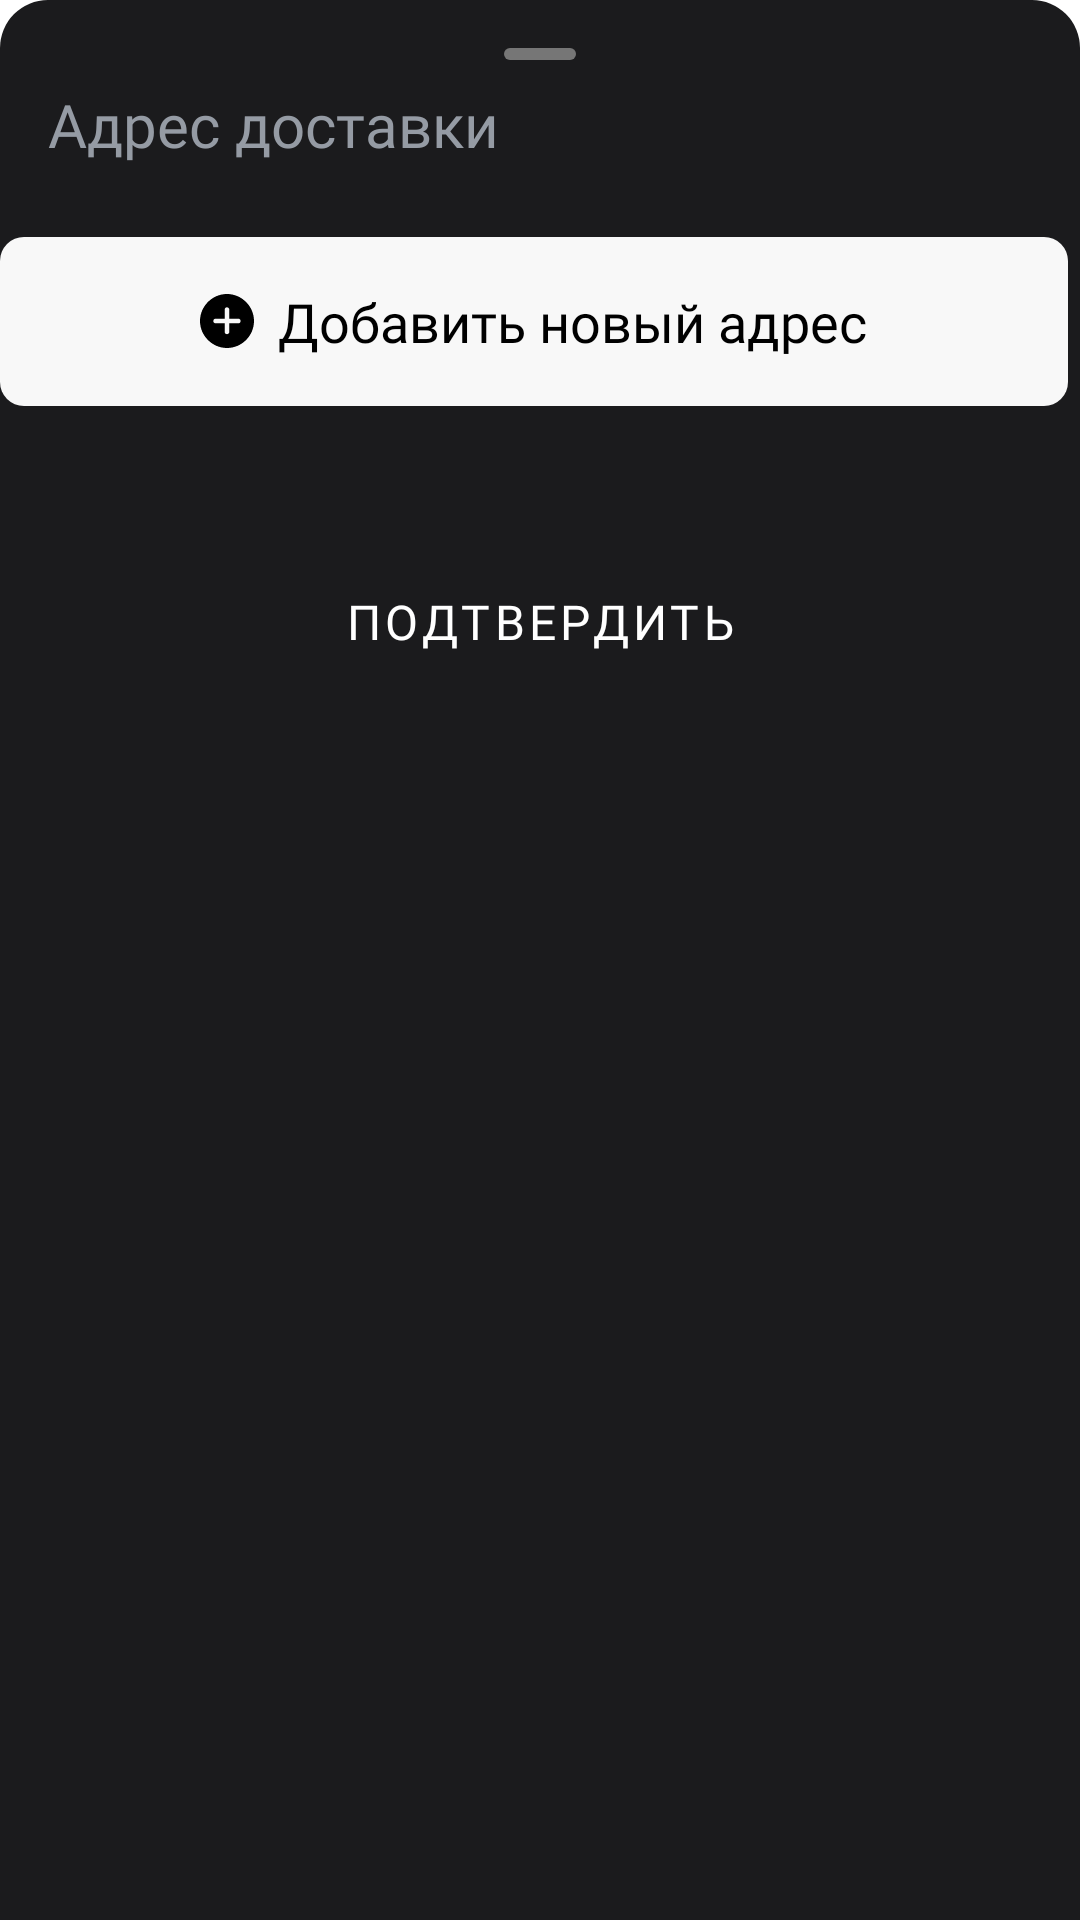

Where icons sit on this 1080x1920 app screen, as (x1,y1,x2,y2):
add address: (200,294,254,348)
